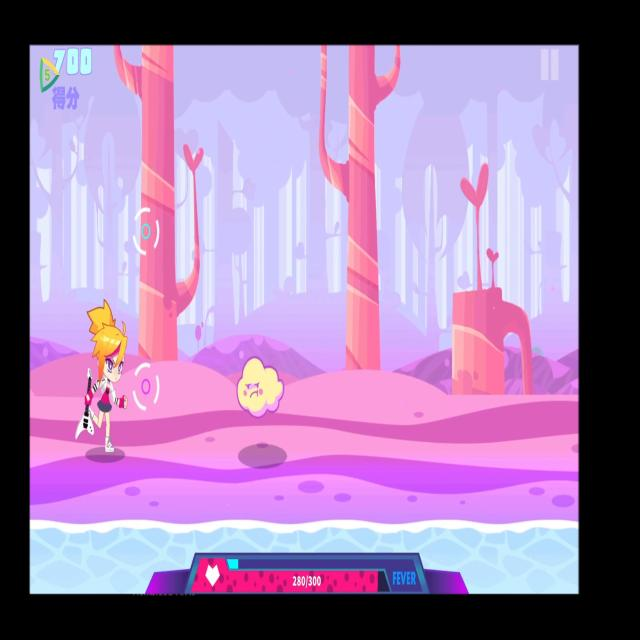Ground Monster - yellow Cloud: (236, 353, 286, 422)
